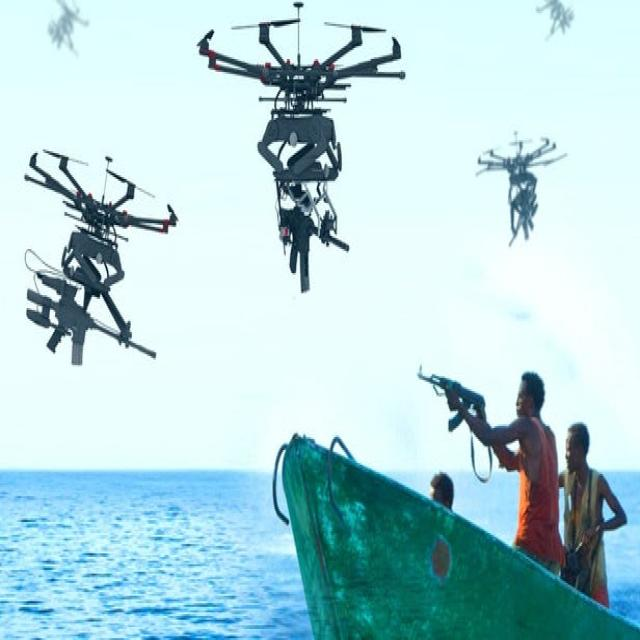drone: (191, 13, 416, 144), (27, 144, 183, 280), (479, 123, 570, 238)
